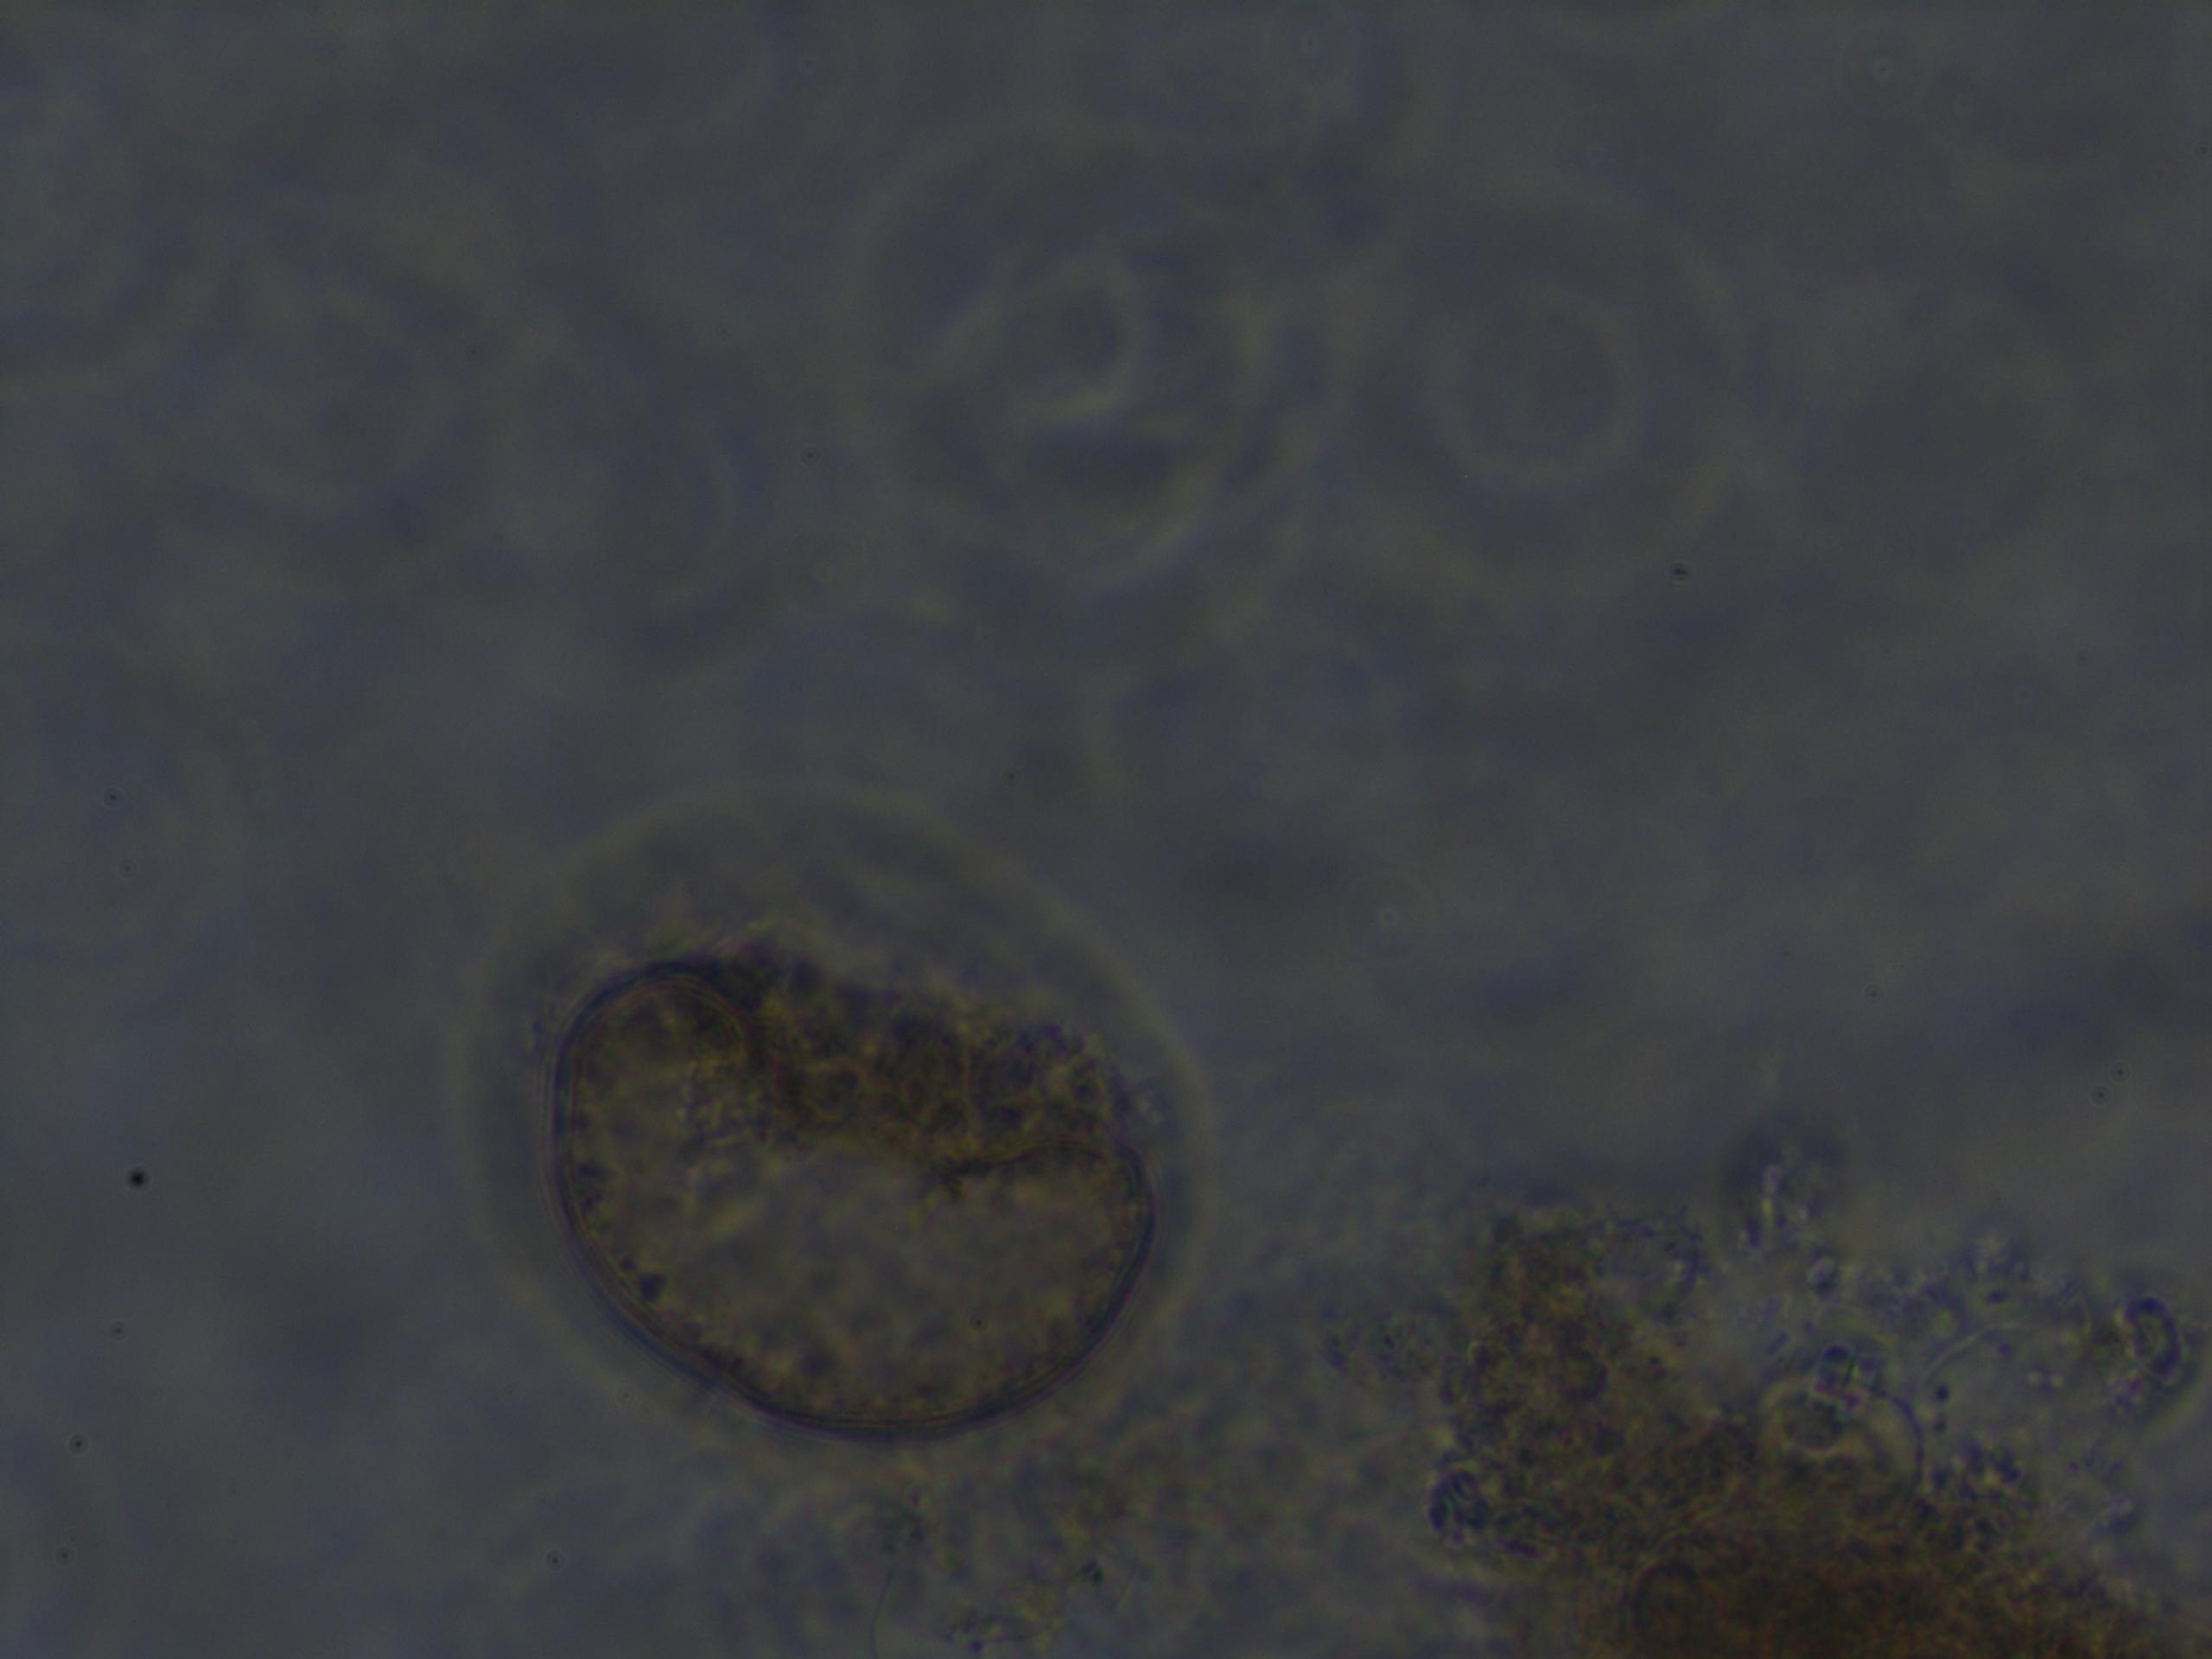protozoa: (430, 788, 1216, 1483)
